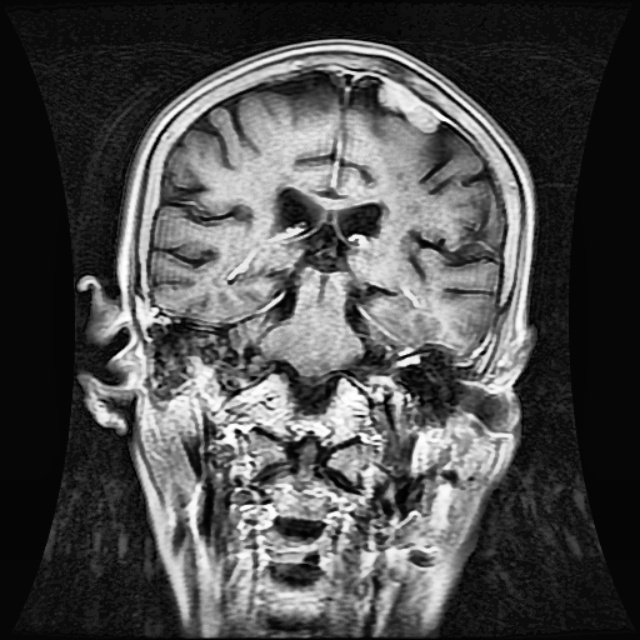Glioma: (378, 80, 440, 132)
